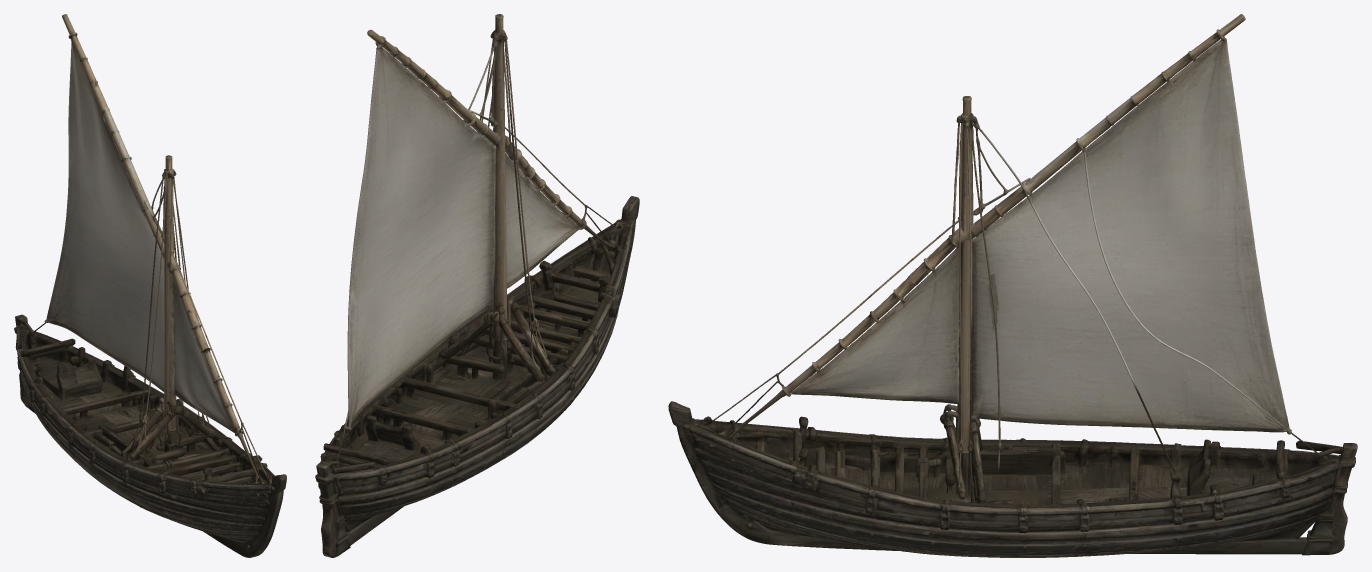
The model's file is barsha.glb.
3 renders of one model, left to right at view 1: azimuth 30°, elevation 25°; view 2: azimuth 150°, elevation 25°; view 3: azimuth 270°, elevation 25°, orthographic. The views are drawn at different scales.
Visible parts, largest first — view 1: node_0; view 2: node_0; view 3: node_0.
Part boxes in pixels (x1,y1,x2,y2): node_0: [14, 14, 286, 557]; node_0: [315, 14, 639, 557]; node_0: [668, 14, 1357, 557].
Size of the model in its own units: 0.2319 by 0.8119 by 0.9393.
1 material, 1 textured.
